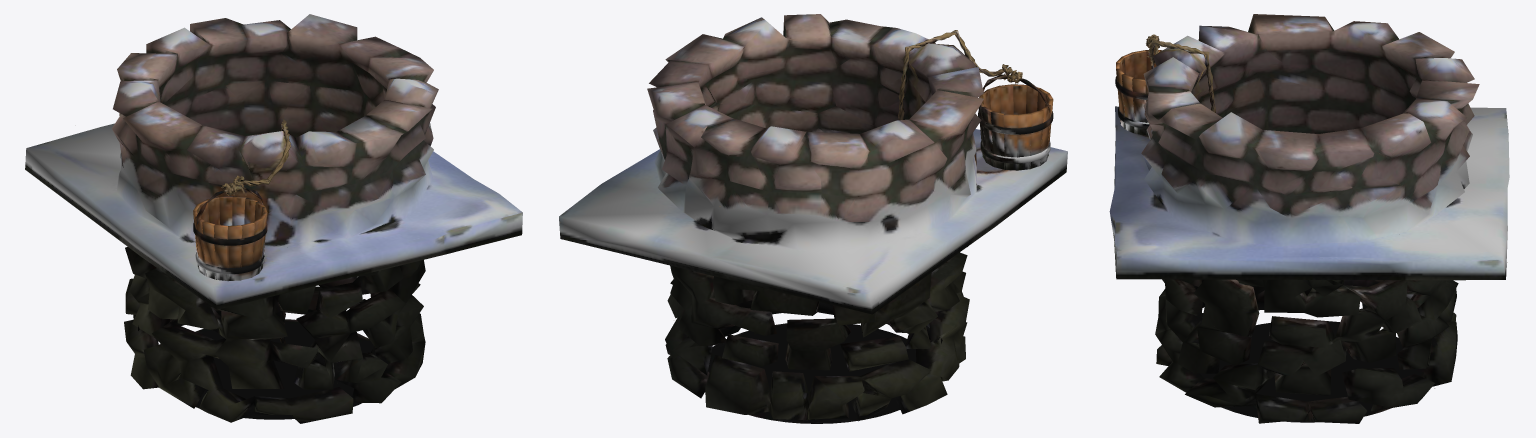
The model's file is well_snow.glb.
3 renders of one model, left to right at view 1: azimuth 30°, elevation 25°; view 2: azimuth 150°, elevation 25°; view 3: azimuth 270°, elevation 25°, orthographic.
Visible parts, largest first — view 1: well_snow_lod0; view 2: well_snow_lod0; view 3: well_snow_lod0.
Part boxes in pixels (<box>): well_snow_lod0: <box>25,14,522,423</box>; well_snow_lod0: <box>559,14,1067,423</box>; well_snow_lod0: <box>1109,14,1509,423</box>.
Bounding box in the file's own units: 1.97 × 1.71 × 2.14.
Materials: 1 (1 with a texture image).
